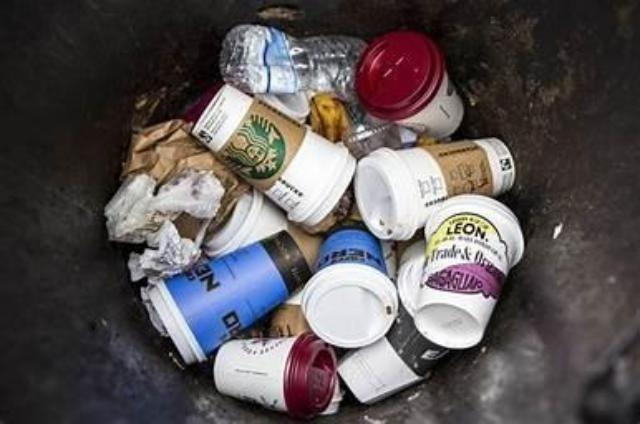Disposable: (342, 104, 419, 159)
Garbage: (106, 26, 537, 424)
Plastic_bottle: (221, 25, 366, 101)
